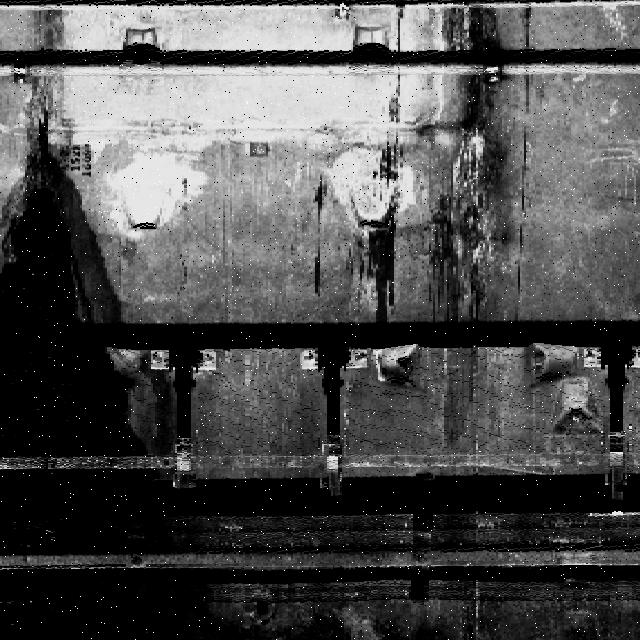leakage: (0, 89, 266, 634), (412, 0, 515, 316), (309, 116, 401, 324)
